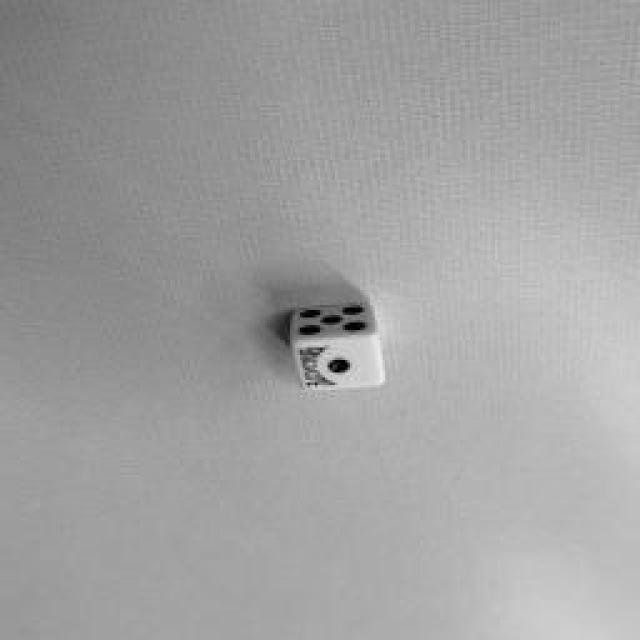dice_1: (292, 336, 382, 392)
